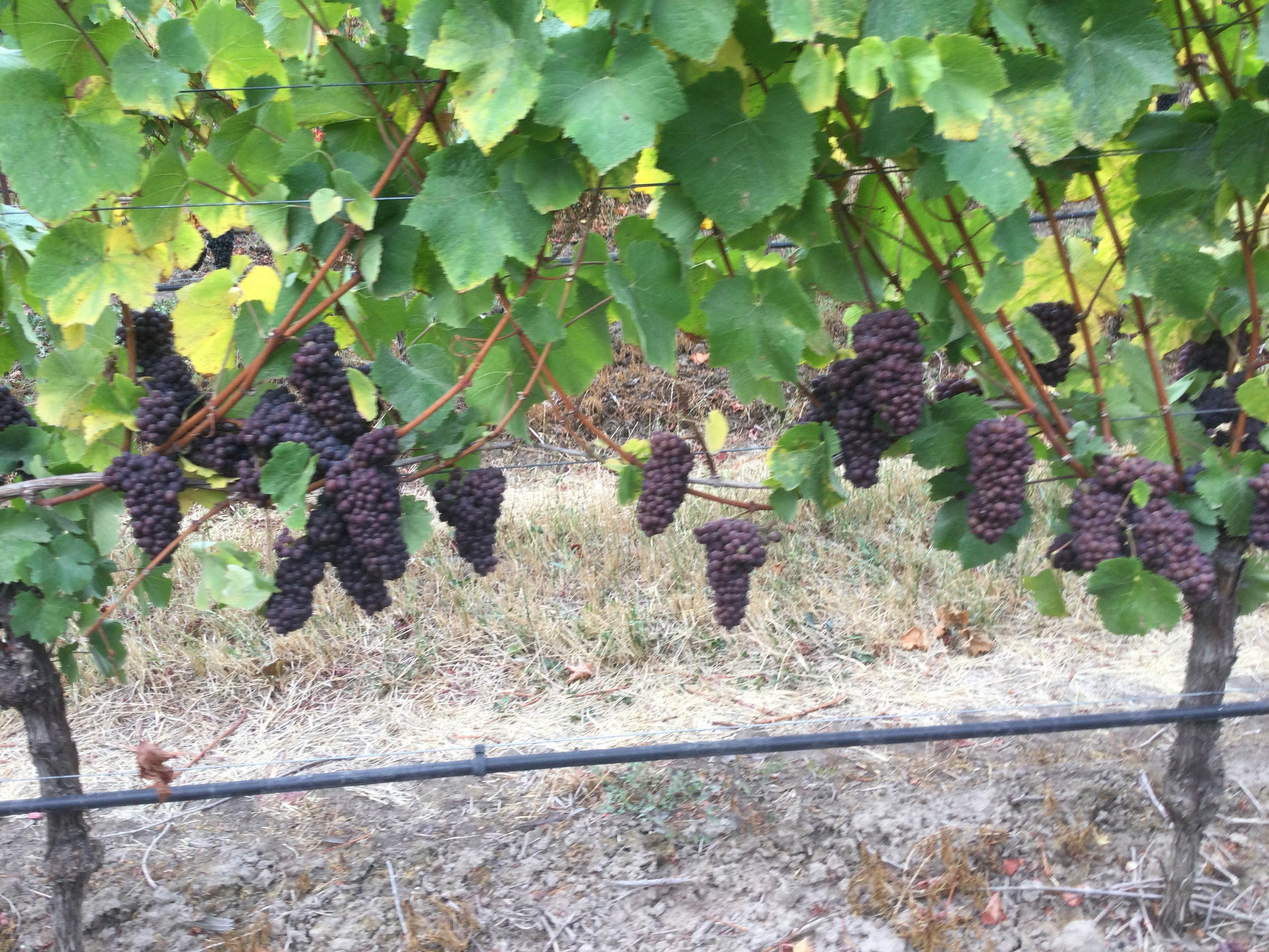leaf: (657, 68, 815, 233), (404, 141, 550, 291), (0, 68, 143, 220), (535, 28, 685, 172), (1030, 0, 1175, 147), (426, 0, 547, 148), (28, 219, 166, 325), (701, 266, 819, 381), (606, 219, 690, 373), (0, 0, 131, 84), (993, 53, 1074, 165), (923, 34, 1007, 140), (1123, 227, 1220, 317), (944, 118, 1033, 215), (192, 0, 288, 86), (171, 268, 241, 374), (547, 281, 612, 395), (1087, 557, 1182, 634), (931, 499, 1030, 568), (768, 424, 845, 510), (371, 343, 456, 418), (499, 137, 584, 212), (910, 394, 995, 469), (128, 144, 187, 249), (190, 541, 278, 609), (111, 38, 188, 115), (35, 345, 103, 430), (1213, 99, 1268, 200), (649, 0, 736, 62), (259, 442, 317, 534), (862, 0, 974, 42), (772, 179, 839, 249), (82, 373, 144, 443), (26, 534, 97, 593), (884, 36, 942, 107), (767, 0, 865, 42), (10, 591, 81, 644), (790, 44, 844, 112), (246, 182, 289, 255), (156, 17, 209, 73), (845, 36, 892, 99), (330, 168, 376, 231), (992, 205, 1038, 263), (87, 619, 127, 681), (87, 493, 124, 556), (989, 0, 1035, 49), (1022, 568, 1068, 617), (399, 494, 432, 554), (346, 368, 378, 420), (546, 0, 595, 28), (309, 188, 342, 224), (703, 410, 728, 453), (544, 282, 563, 311), (421, 408, 444, 431), (79, 606, 99, 632), (912, 90, 922, 100), (896, 37, 910, 43), (229, 93, 243, 98), (896, 99, 908, 104), (106, 310, 113, 317), (446, 399, 453, 405), (838, 249, 846, 254), (895, 84, 898, 96), (600, 239, 601, 244), (235, 262, 236, 263), (847, 255, 848, 256), (693, 235, 694, 236), (949, 136, 956, 136)
